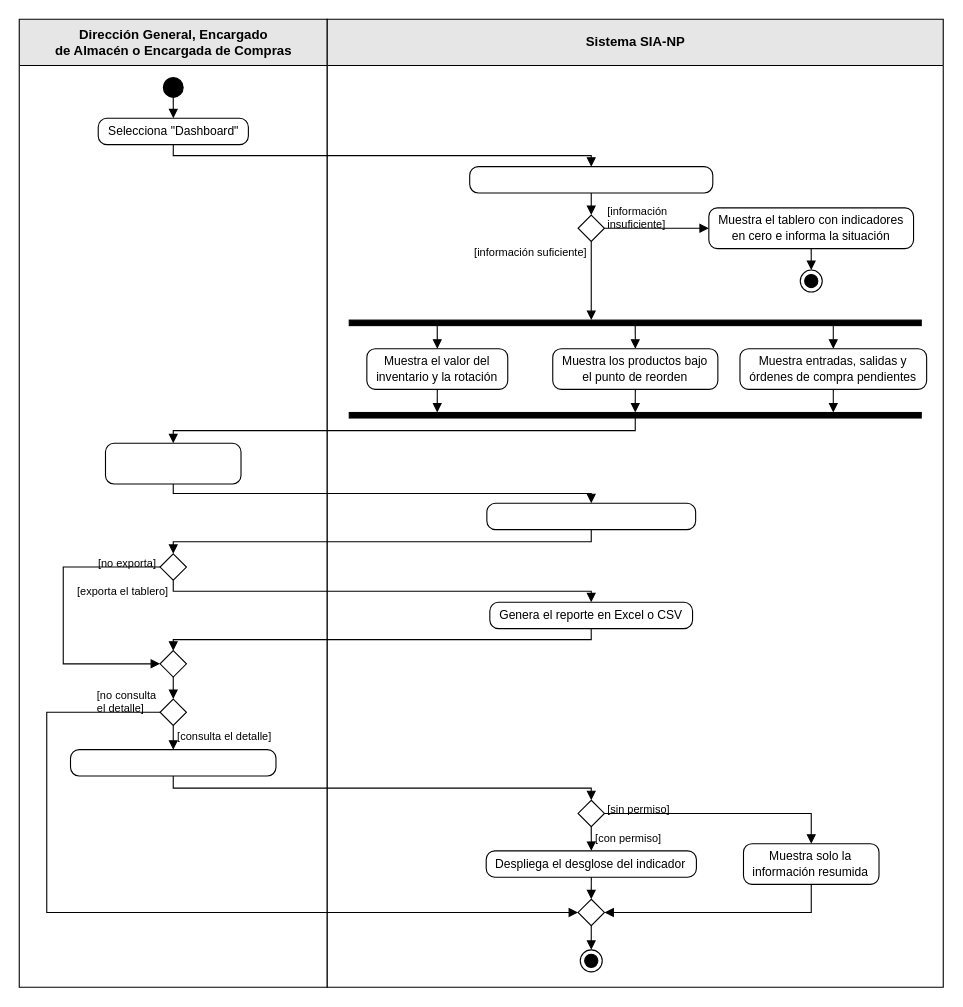
Image size: 963x1007. Some labels were removed from this diagram. The shapes that lost their labels are listed below. From the top down, each one's centre as x and y in pixels, then its label:
point (591, 179): Calcula los indicadores del periodo actual
point (172, 463): Selecciona el periodo (semanal o mensual)
point (591, 516): Actualiza las gráficas e indicadores
point (172, 762): Consulta el detalle de un indicador
